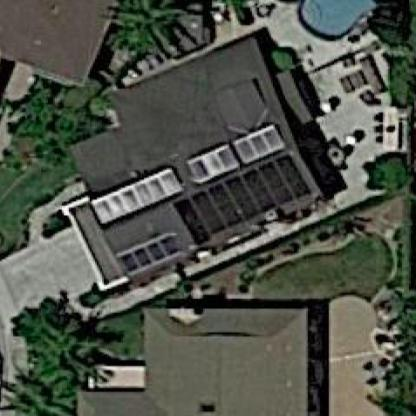solar_panel: (171, 153, 323, 248), (76, 168, 184, 228), (185, 123, 288, 185), (104, 230, 183, 275)
swimming_pool: (284, 1, 407, 54)
